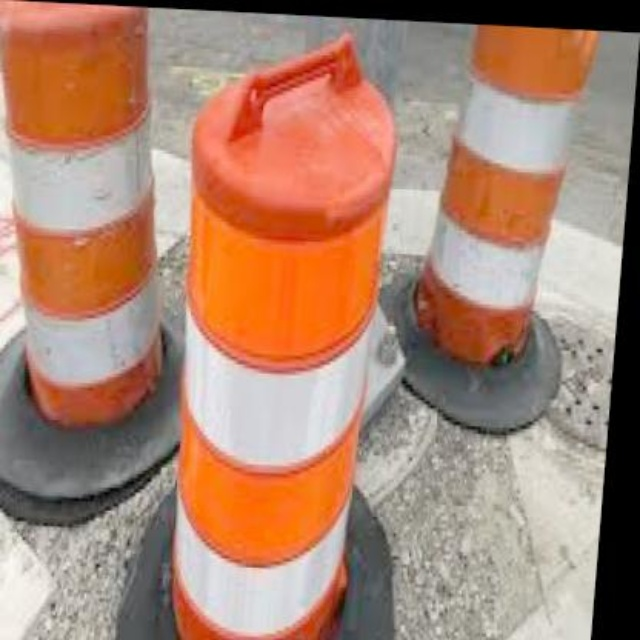obstacle: (157, 39, 395, 640)
